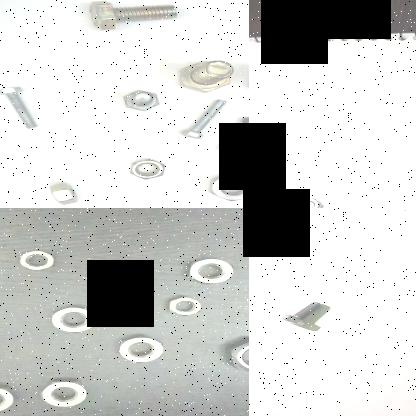Bolts: (80, 0, 184, 31), (166, 53, 236, 94), (178, 98, 233, 140), (0, 81, 41, 131), (110, 83, 166, 109), (218, 110, 249, 156), (280, 297, 326, 327)
NUTS: (112, 330, 164, 365), (48, 304, 105, 334), (182, 254, 233, 286), (36, 378, 88, 408), (203, 169, 249, 201), (48, 178, 98, 206), (125, 154, 173, 180), (12, 249, 58, 275), (162, 292, 208, 316), (221, 336, 249, 373), (98, 268, 140, 289), (0, 382, 24, 416), (290, 193, 328, 208)
